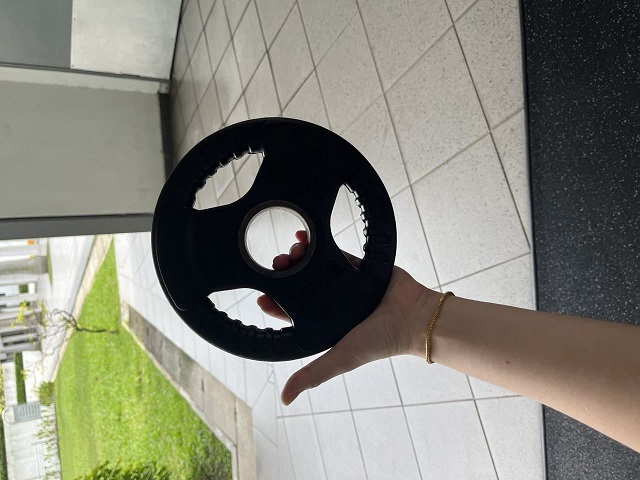weights: (149, 117, 399, 363)
